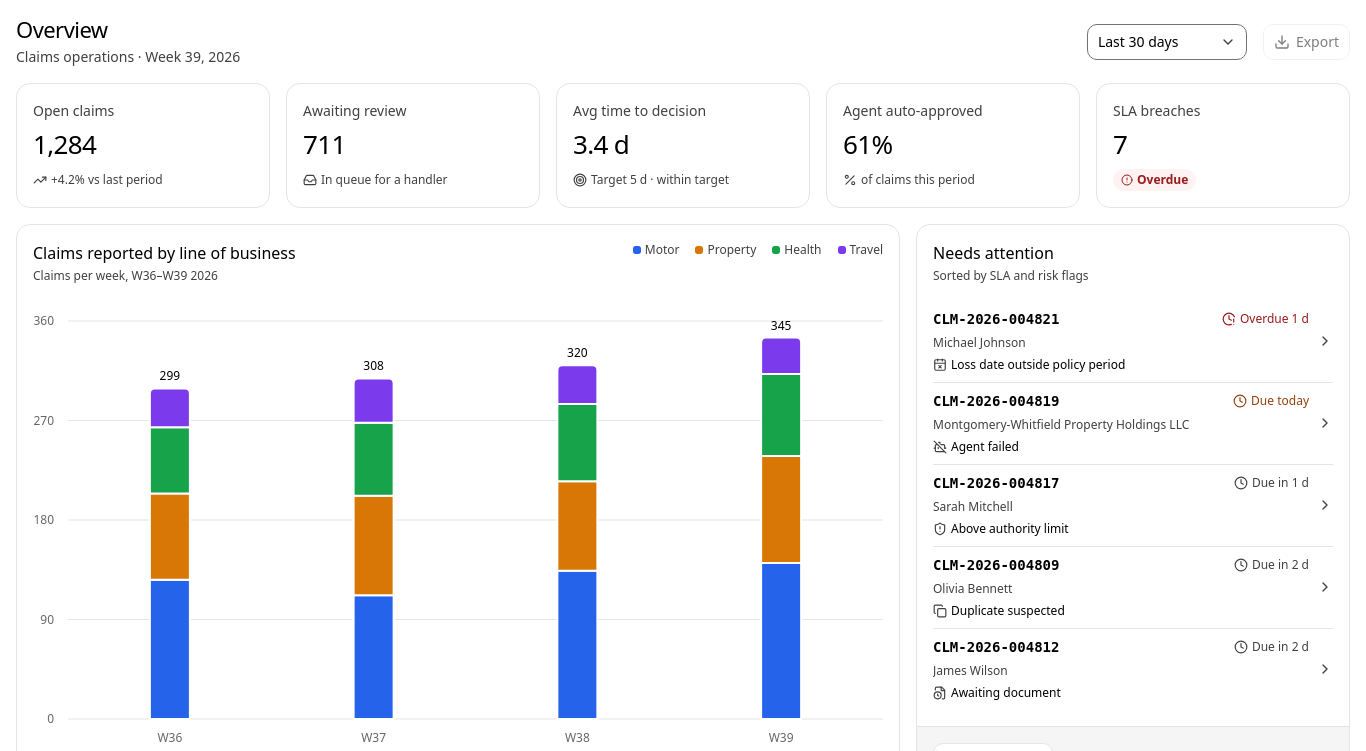
Test case: Overview › period › changing the period changes the chart description and the data table rows
Click the dropdown named "Period" at (1167, 42), box [1087, 24, 1247, 60]
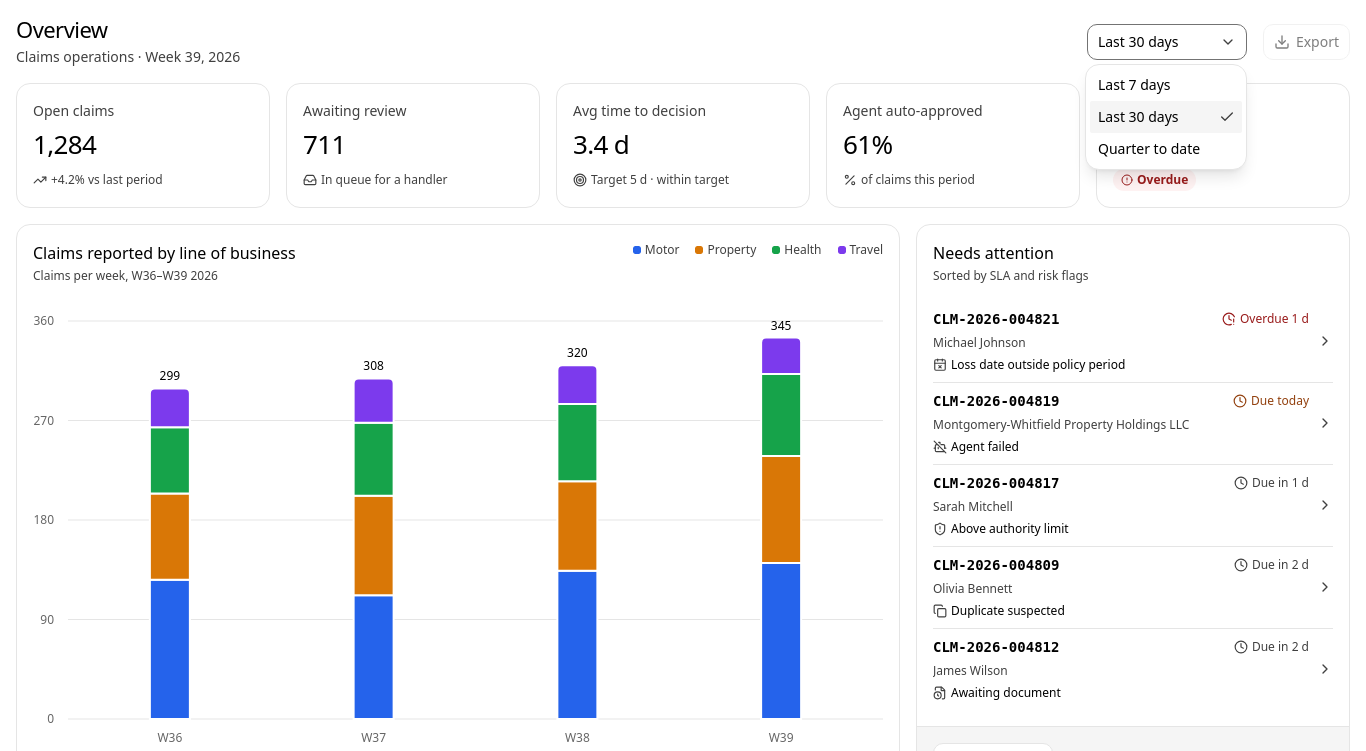
Click the option "Last 7 days" at (1134, 84), box [1098, 75, 1171, 94]
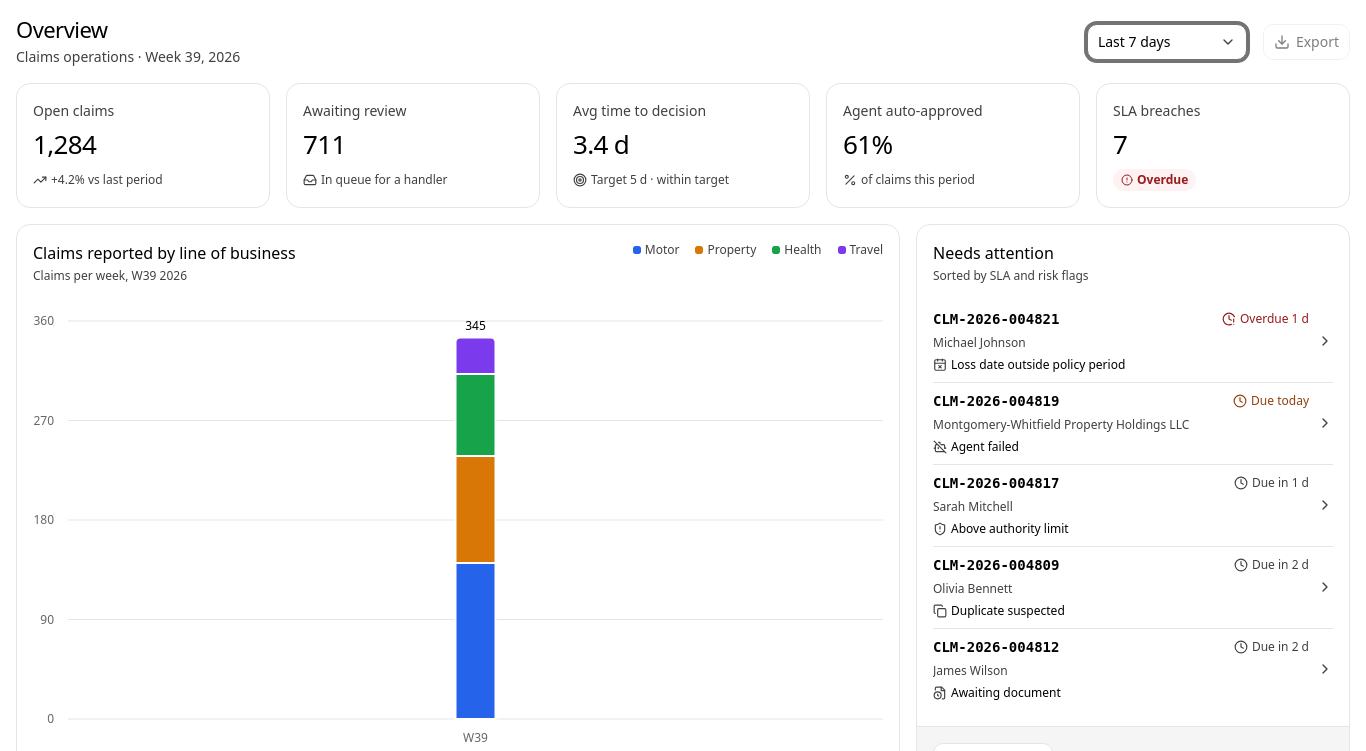
Now the text "Claims per week, W39 2026" is shown, box [33, 267, 187, 284]
Click the dropdown named "Period" at (1167, 42), box [1087, 24, 1247, 60]
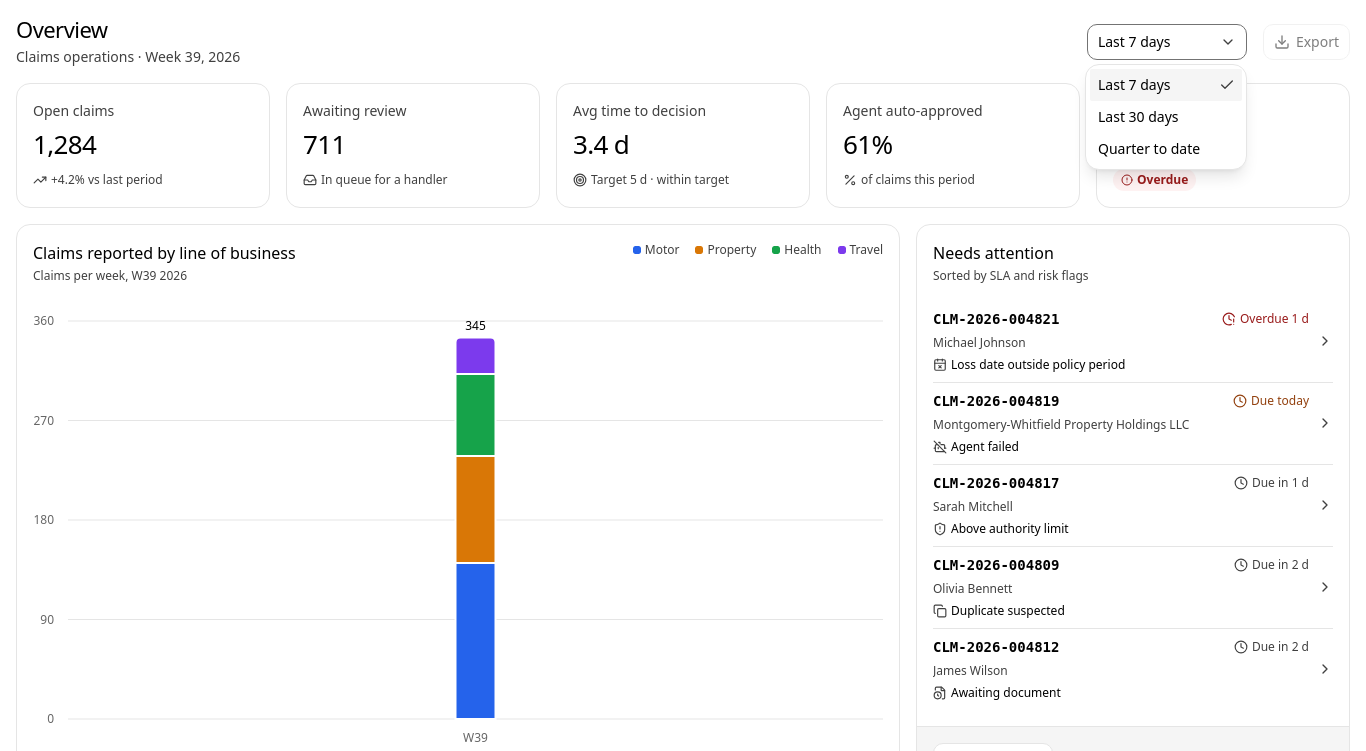
Click the option "Quarter to date" at (1149, 148), box [1098, 139, 1200, 158]
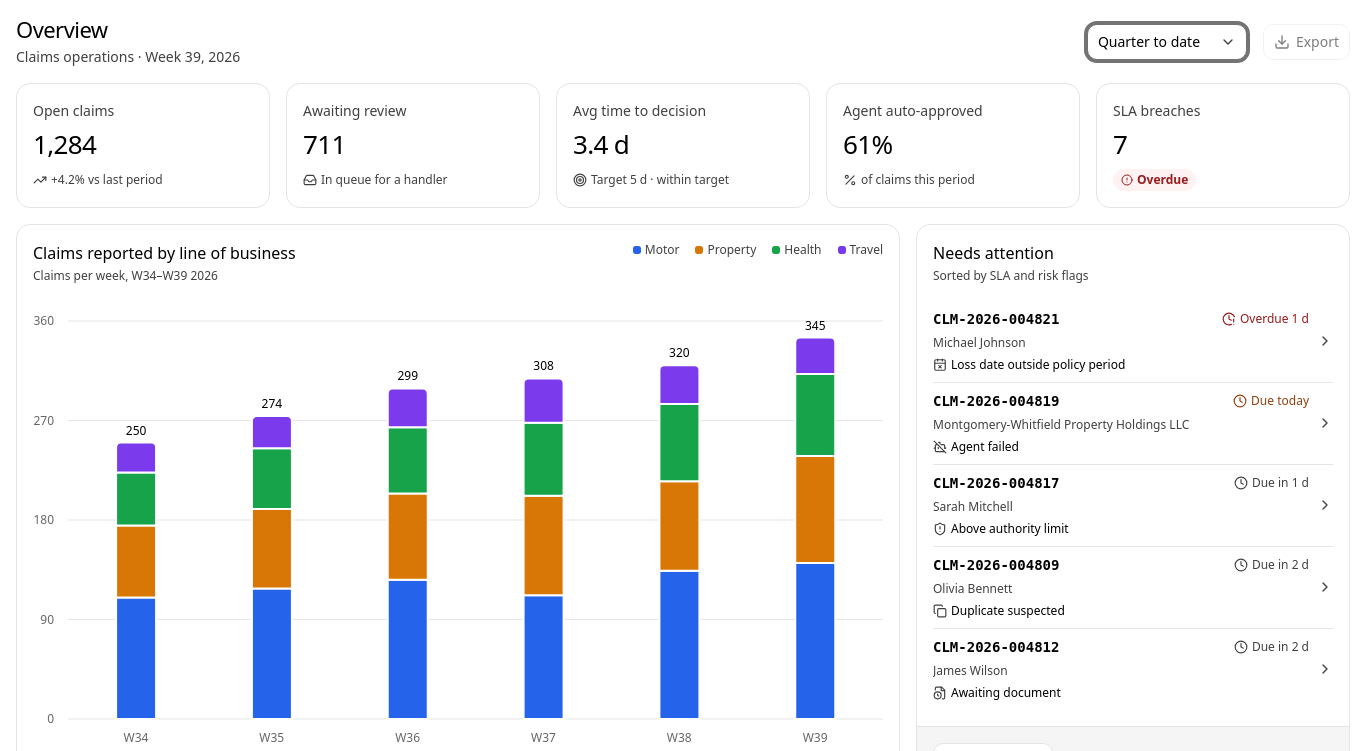
Now the text "Claims per week, W34–W39 2026" is shown, box [33, 267, 218, 284]
Click the dropdown named "Period" at (1167, 42), box [1087, 24, 1247, 60]
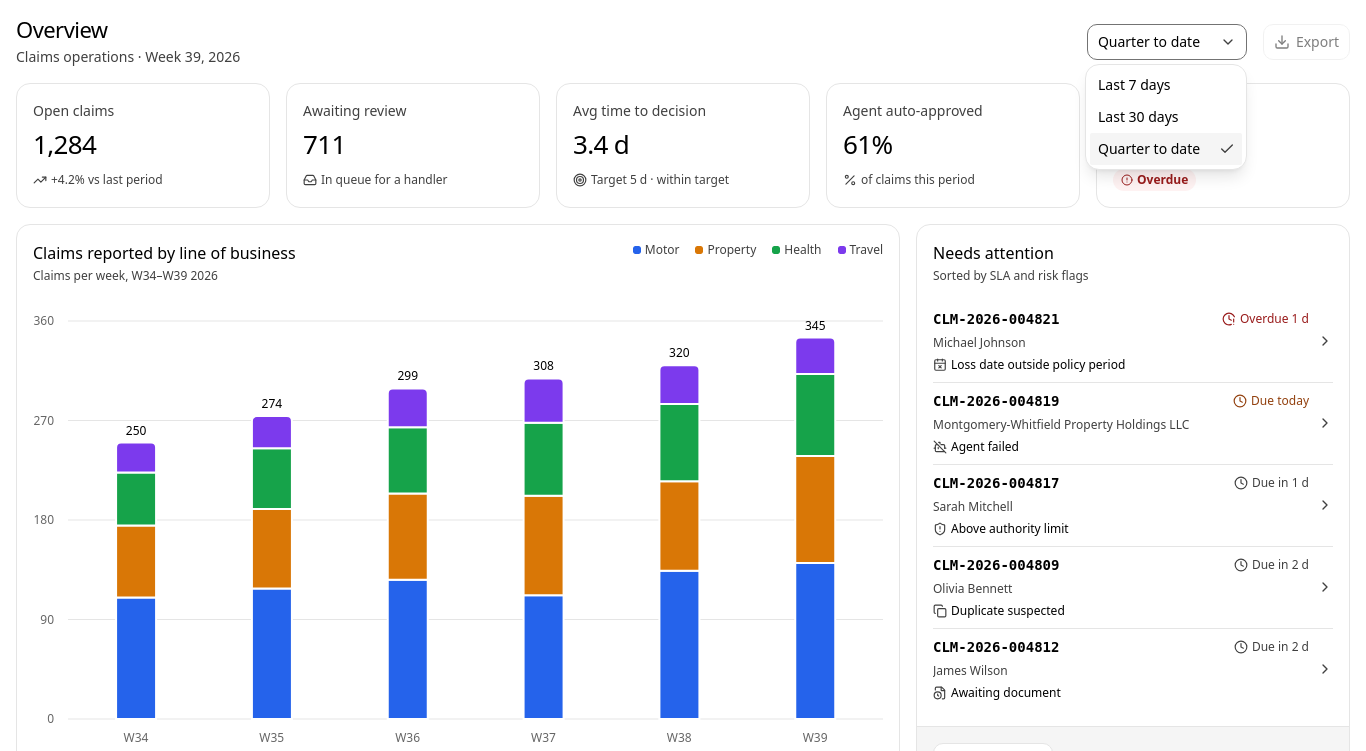
Click the option "Last 30 days" at (1138, 116), box [1098, 107, 1179, 126]
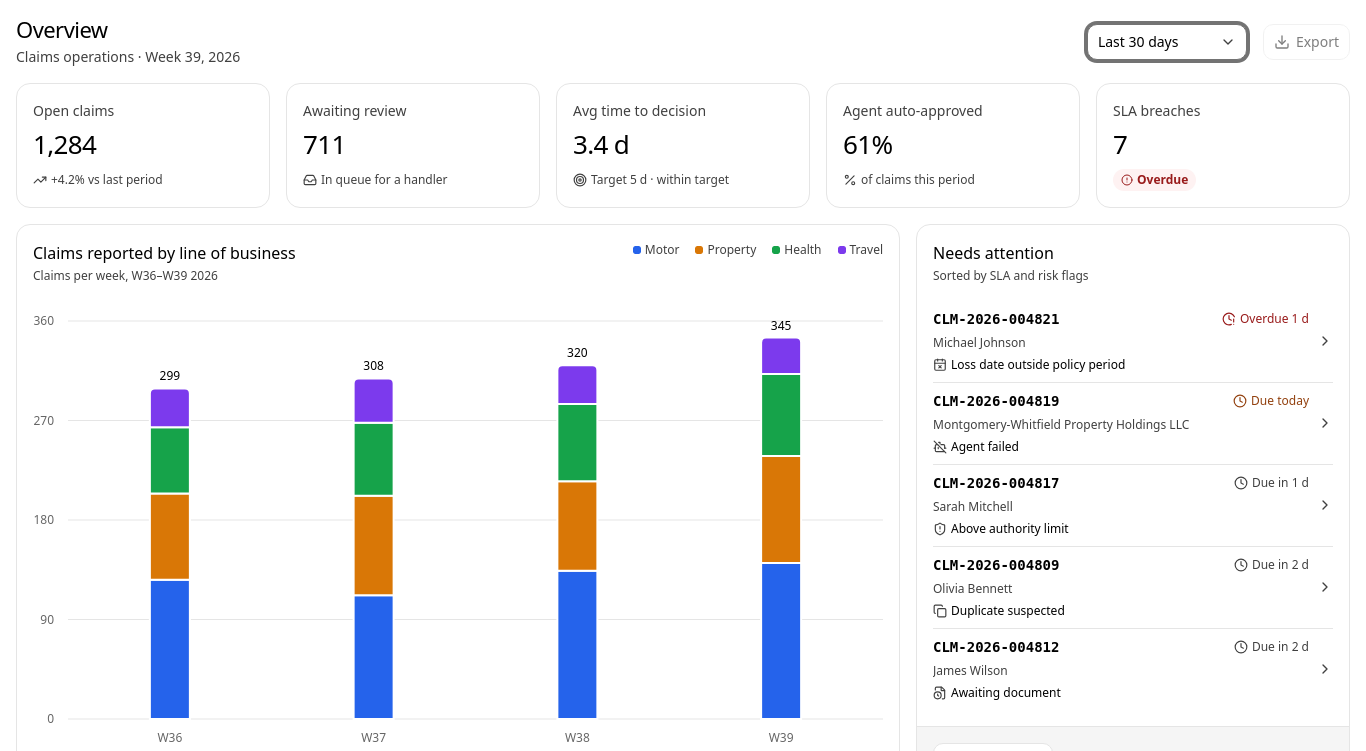
Now the text "Claims per week, W36–W39 2026" is shown, box [33, 267, 218, 284]
